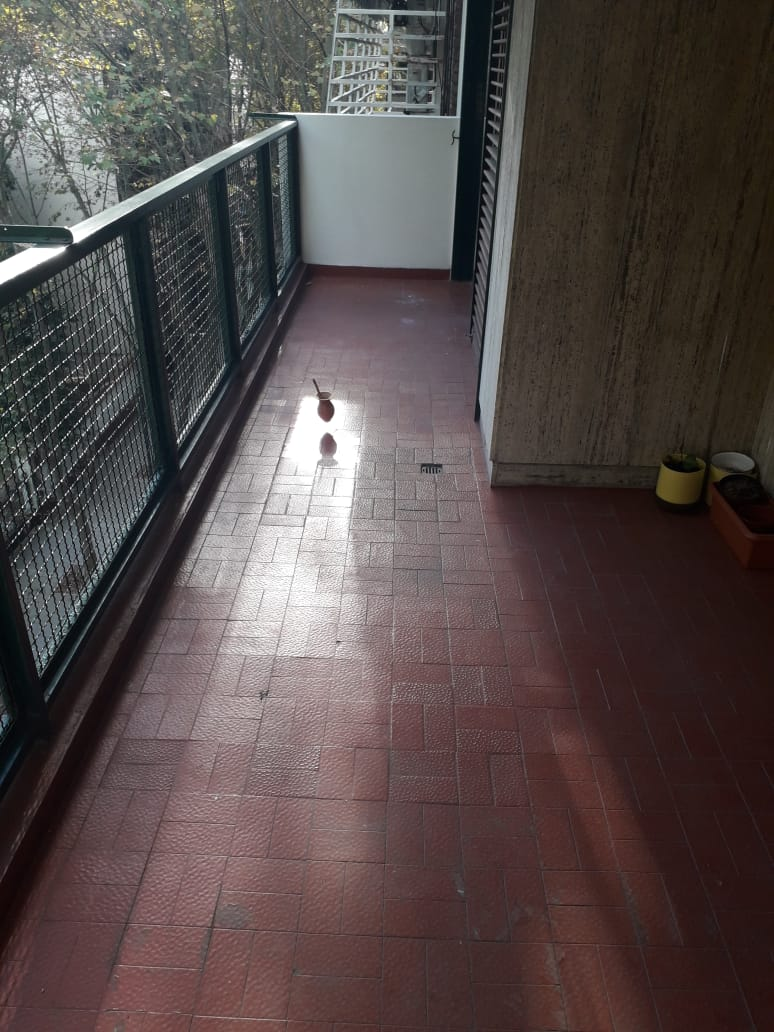calabaza: (308, 378, 333, 421)
mate: (310, 380, 335, 423)
